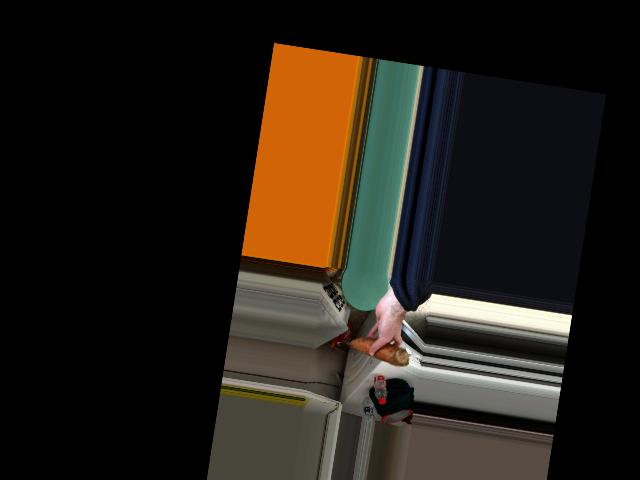sweet_potato: (346, 336, 411, 362)
